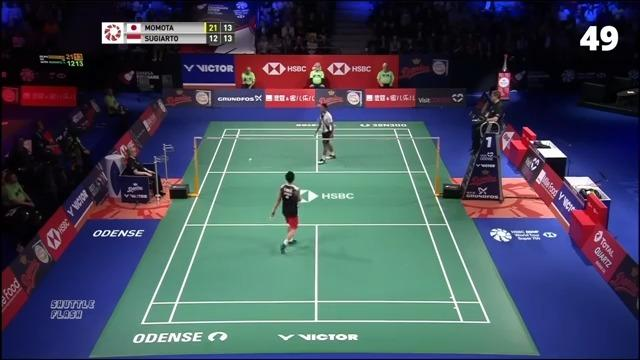Shuttlecock: (248, 156, 255, 162)
